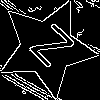Z: (22, 22, 76, 76)
